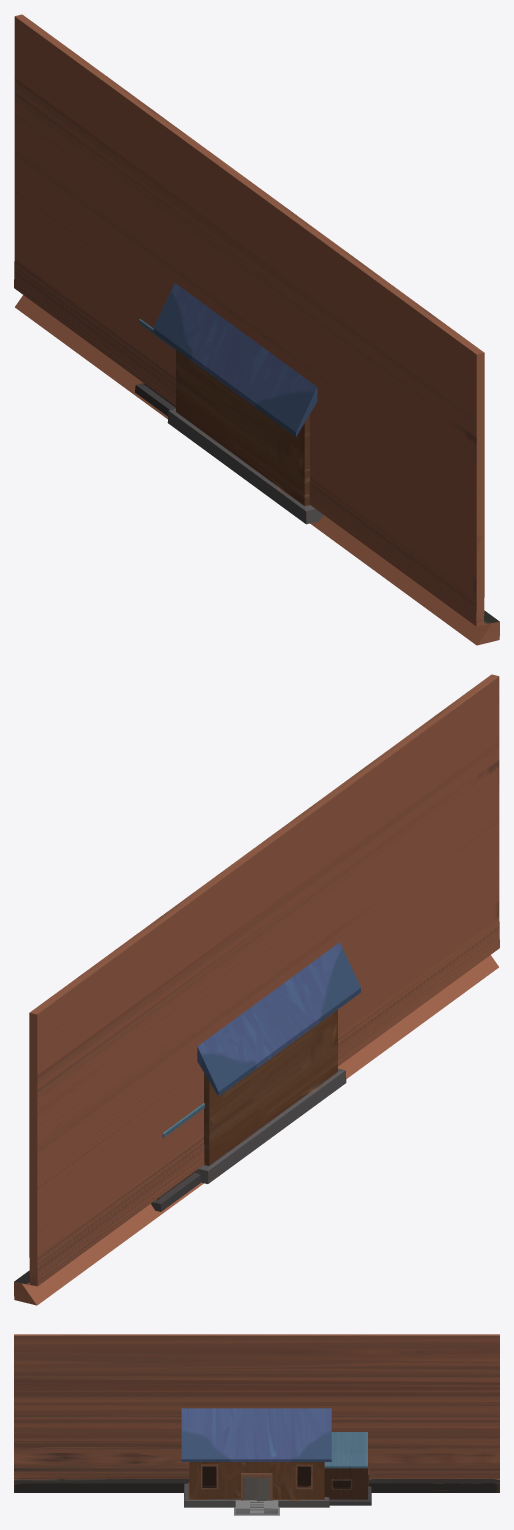
The model's file is ServantsQuartersExterior.glb.
3 renders of one model, top to bottom at view 1: azimuth 30°, elevation 25°; view 2: azimuth 150°, elevation 25°; view 3: azimuth 270°, elevation 25°, orthographic. The views are drawn at different scales.
Visible parts, largest first — view 1: MansionWall, Quarters, QuartersRoof; view 2: MansionWall, Quarters, QuartersRoof, Extra room; view 3: MansionWall, QuartersRoof, Quarters, Extra room, ExtraRoomRoof, Entry Stairs.
Boxes of the visible parts, left/top/right/bottom form: MansionWall: left=14, top=14, right=499, bottom=645; Quarters: left=167, top=349, right=323, bottom=524; QuartersRoof: left=153, top=283, right=317, bottom=436; MansionWall: left=14, top=674, right=499, bottom=1305; Quarters: left=195, top=1009, right=346, bottom=1183; QuartersRoof: left=197, top=942, right=360, bottom=1096; Extra room: left=151, top=1171, right=200, bottom=1211; MansionWall: left=14, top=1334, right=499, bottom=1492; QuartersRoof: left=181, top=1408, right=331, bottom=1461; Quarters: left=184, top=1462, right=329, bottom=1507; Extra room: left=324, top=1468, right=371, bottom=1505; ExtraRoomRoof: left=324, top=1432, right=367, bottom=1468; Entry Stairs: left=234, top=1500, right=279, bottom=1515.
Size of the model in its own units: 17.12 by 33.19 by 95.55.
6 materials, 6 textured.
